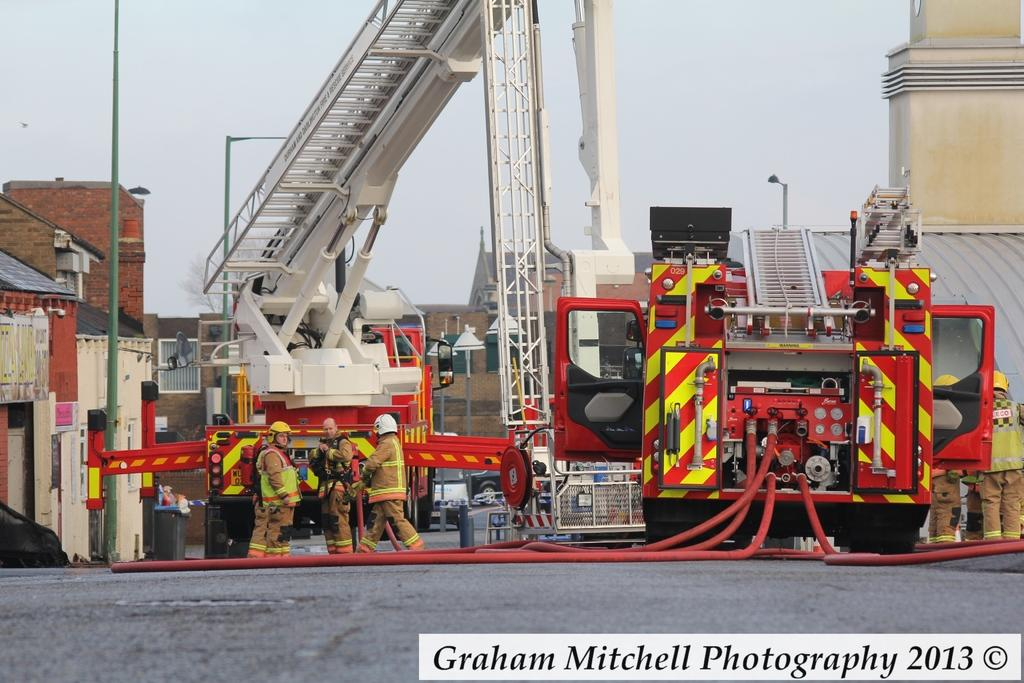Truck: (79, 0, 532, 571), (573, 199, 949, 532)
